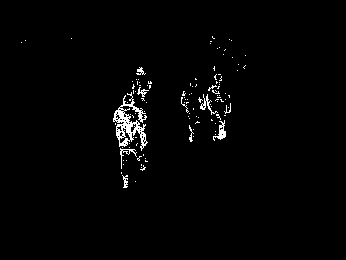person: (113, 93, 148, 190), (208, 72, 234, 141), (180, 77, 204, 141)
